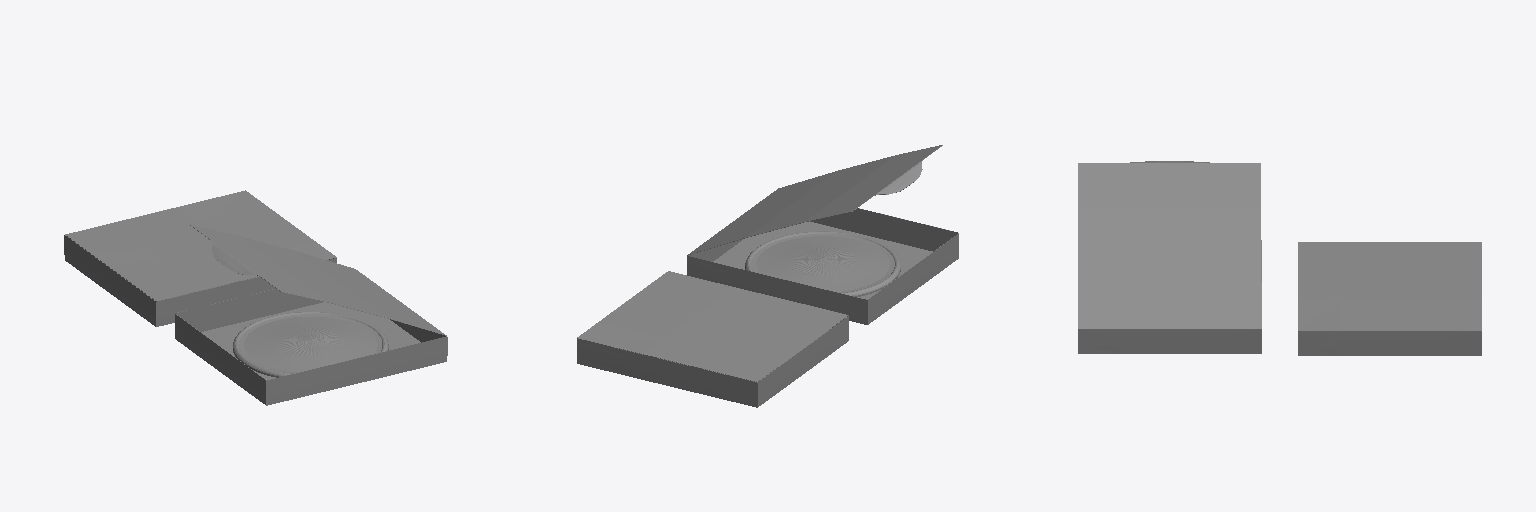
Rendered from pizza.obj.
3 views of the same model, side by side, from view 1: azimuth 30°, elevation 25°; view 2: azimuth 150°, elevation 25°; view 3: azimuth 270°, elevation 25° (orthographic).
Parts seen in each view (by area): view 1: Pizza_3d_models__3dislands_blogspot_com_; view 2: Pizza_3d_models__3dislands_blogspot_com_; view 3: Pizza_3d_models__3dislands_blogspot_com_.
Boxes of the visible parts, <box> form: Pizza_3d_models__3dislands_blogspot_com_: <box>64,190,447,405</box>; Pizza_3d_models__3dislands_blogspot_com_: <box>577,145,958,407</box>; Pizza_3d_models__3dislands_blogspot_com_: <box>1078,161,1481,355</box>.
Size of the model in its own units: 0.3199 by 0.1889 by 0.6172.